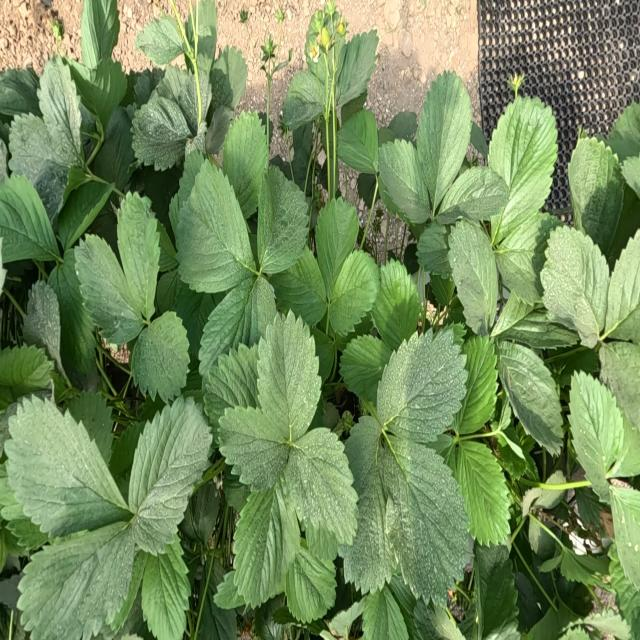Leaves: (6, 398, 123, 536), (379, 435, 471, 599), (19, 518, 136, 639), (129, 398, 211, 554), (173, 161, 255, 291), (377, 330, 467, 443), (489, 96, 556, 243), (285, 429, 357, 555), (343, 418, 395, 592), (257, 312, 321, 442), (542, 228, 610, 347), (233, 486, 299, 607), (439, 439, 510, 545), (569, 373, 628, 500), (417, 71, 471, 209), (498, 342, 562, 454), (199, 282, 274, 377), (76, 234, 141, 343), (47, 247, 96, 390), (9, 113, 70, 223), (568, 137, 623, 256), (494, 211, 561, 305), (448, 221, 499, 334), (218, 406, 286, 489), (257, 167, 309, 274), (117, 192, 159, 319), (132, 312, 190, 400), (1, 174, 57, 263), (141, 540, 191, 639), (221, 111, 267, 217), (38, 56, 82, 166), (268, 247, 327, 324), (131, 95, 190, 170), (203, 344, 258, 424), (372, 260, 420, 350), (378, 139, 429, 223), (315, 198, 358, 297), (455, 335, 498, 434), (328, 251, 379, 333), (436, 167, 507, 224), (474, 543, 517, 637), (603, 230, 639, 340), (57, 181, 111, 251), (286, 546, 335, 623), (24, 280, 63, 374), (340, 335, 391, 404), (600, 343, 639, 432), (79, 58, 127, 127), (94, 108, 134, 189), (337, 30, 378, 108), (155, 65, 201, 133), (609, 486, 639, 589), (109, 423, 145, 504), (0, 344, 51, 399), (337, 109, 378, 173), (281, 70, 324, 131), (81, 0, 119, 68), (363, 584, 408, 639), (135, 17, 183, 66), (0, 68, 39, 115), (608, 103, 639, 162), (417, 222, 450, 276), (196, 597, 235, 639), (206, 106, 233, 161), (292, 121, 313, 191), (227, 46, 247, 108), (213, 571, 243, 608), (388, 111, 416, 141), (357, 172, 375, 207)
Strawberries: (319, 27, 330, 50), (337, 22, 346, 35)
